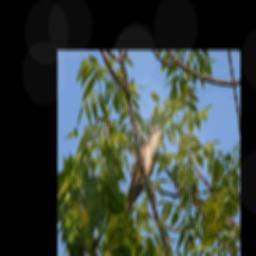Cuckoo: (123, 126, 164, 217)
